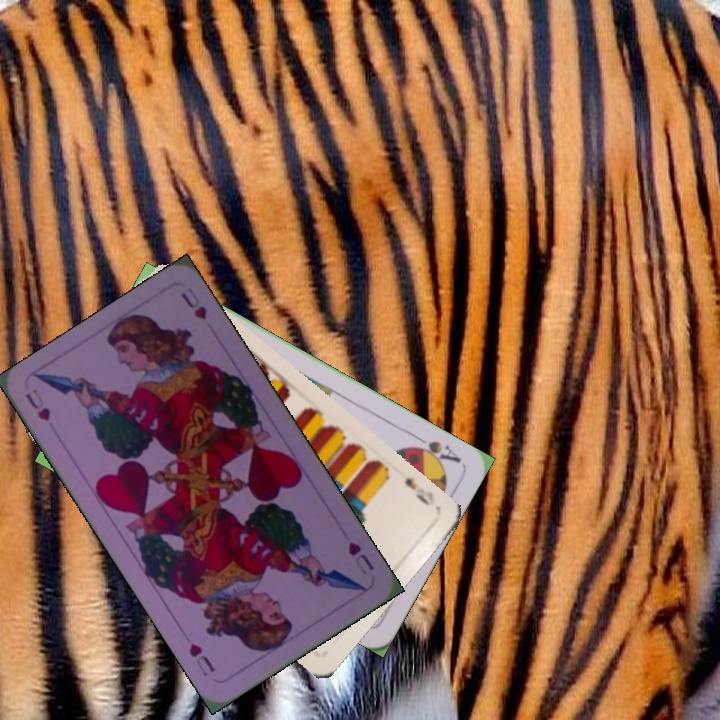E9: (400, 473, 438, 509)
HU: (343, 538, 377, 578), (21, 389, 54, 425)
SA: (405, 430, 464, 467)
